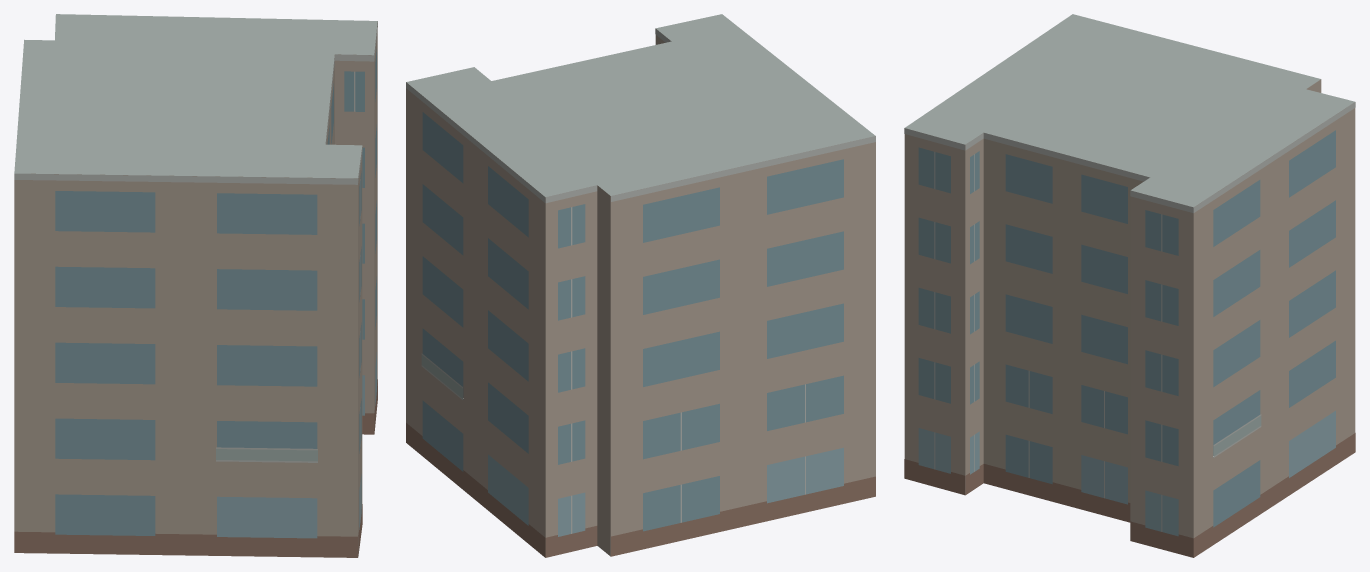
Rendered from survey-upis-32846960.glb.
3 renders of one model, left to right at view 1: azimuth 30°, elevation 25°; view 2: azimuth 150°, elevation 25°; view 3: azimuth 270°, elevation 25°, orthographic. The views are drawn at different scales.
Visible parts, largest first — view 1: survey-upis-32846960.tmp; view 2: survey-upis-32846960.tmp; view 3: survey-upis-32846960.tmp.
Part boxes in pixels (left/top/right/bottom): survey-upis-32846960.tmp: left=14, top=14, right=377, bottom=557; survey-upis-32846960.tmp: left=406, top=14, right=875, bottom=557; survey-upis-32846960.tmp: left=904, top=14, right=1355, bottom=557.
Size of the model in its own units: 17.1 by 14.45 by 16.86.
